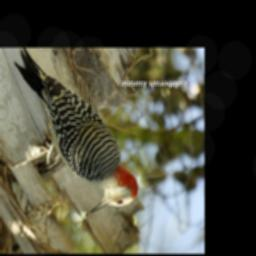Woodpecker: (12, 48, 142, 214)
